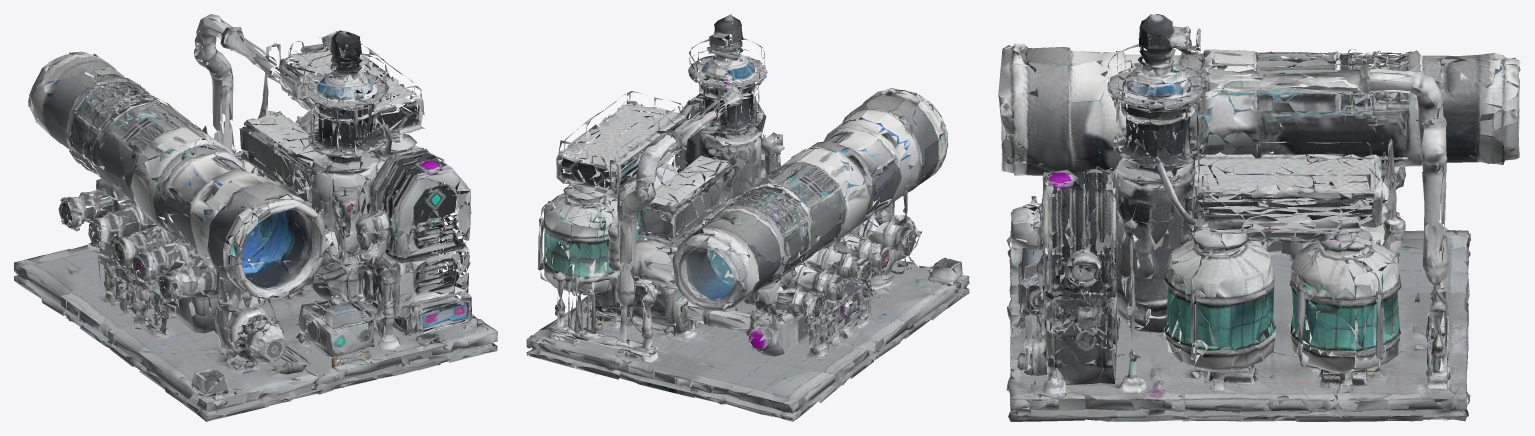
The model's file is ingest.glb.
3 views of the same model, side by side, from view 1: azimuth 30°, elevation 25°; view 2: azimuth 150°, elevation 25°; view 3: azimuth 270°, elevation 25° (orthographic). The views are drawn at different scales.
Parts seen in each view (by area): view 1: Mesh_0; view 2: Mesh_0; view 3: Mesh_0.
Part boxes in pixels (left/top/right/bottom): Mesh_0: left=14, top=14, right=497, bottom=421; Mesh_0: left=526, top=14, right=969, bottom=421; Mesh_0: left=998, top=14, right=1520, bottom=421.
Bounding box in the file's own units: 1.6 × 1.46 × 1.91.
1 material, 1 textured.
